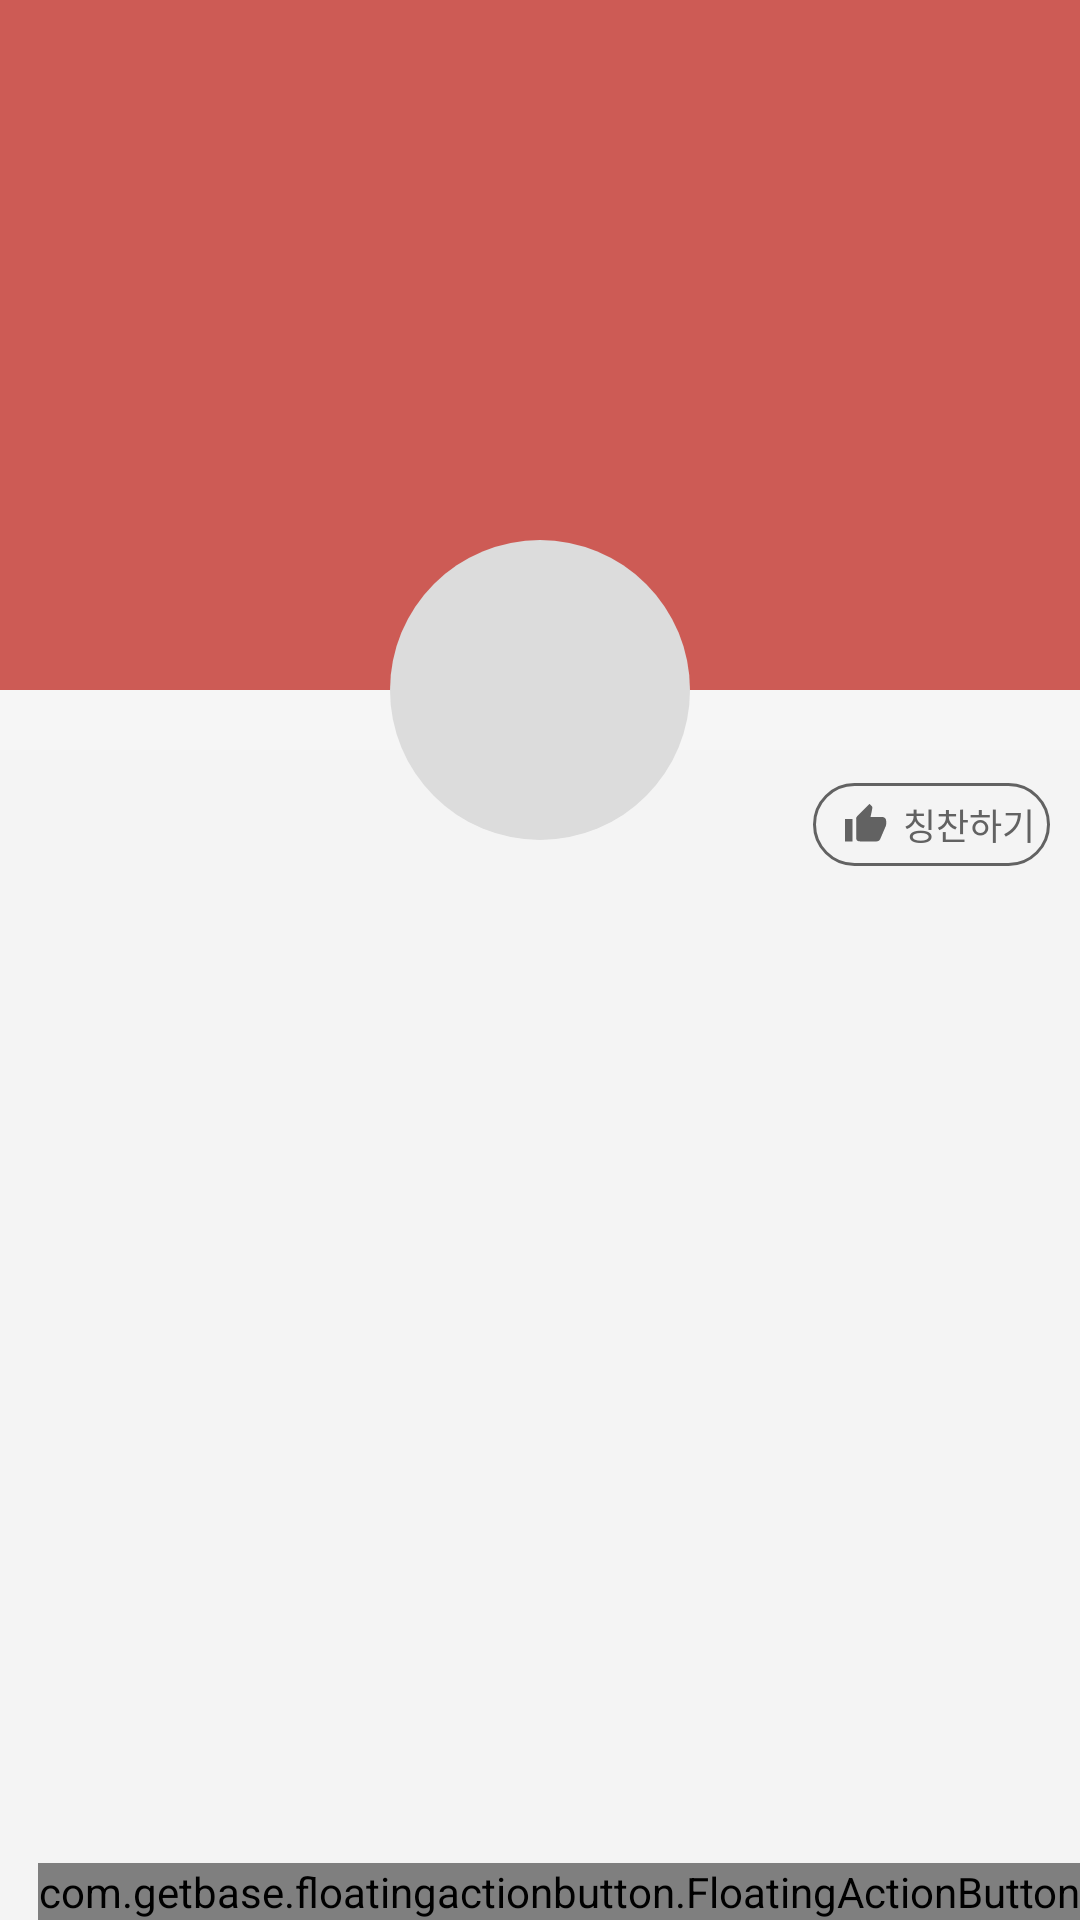

Icon bounding boxes for this 1080 x 1920 phone screenshot, format (x1, y1, x2, y2):
thumb up: (845, 804, 887, 842)
